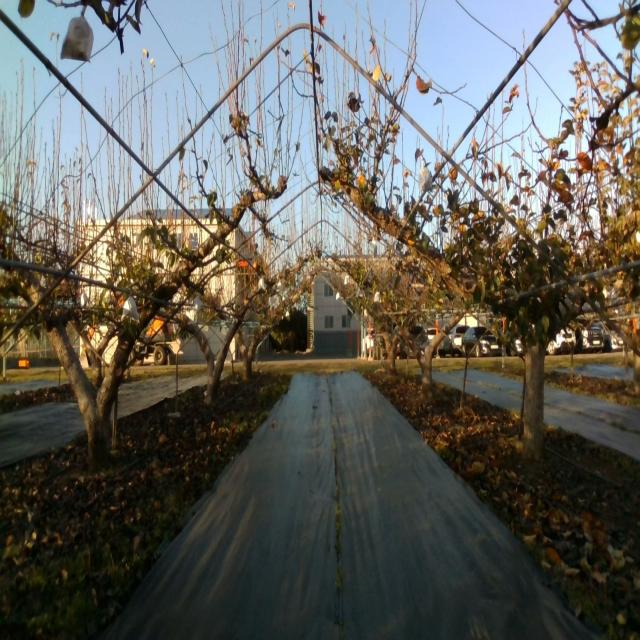pearbags: (60, 16, 94, 64), (121, 296, 139, 326), (418, 165, 434, 194)
